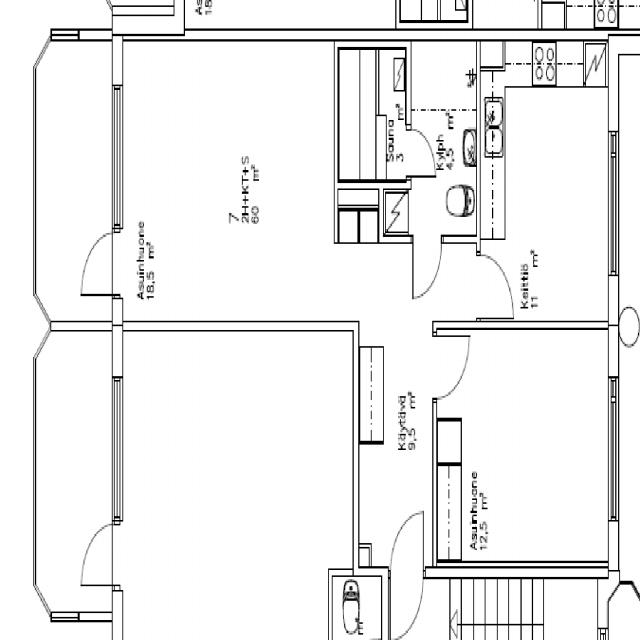door: (80, 233, 120, 295), (390, 508, 423, 579), (433, 336, 470, 399), (476, 255, 513, 317), (390, 571, 423, 640), (413, 234, 441, 296), (406, 129, 436, 176)
